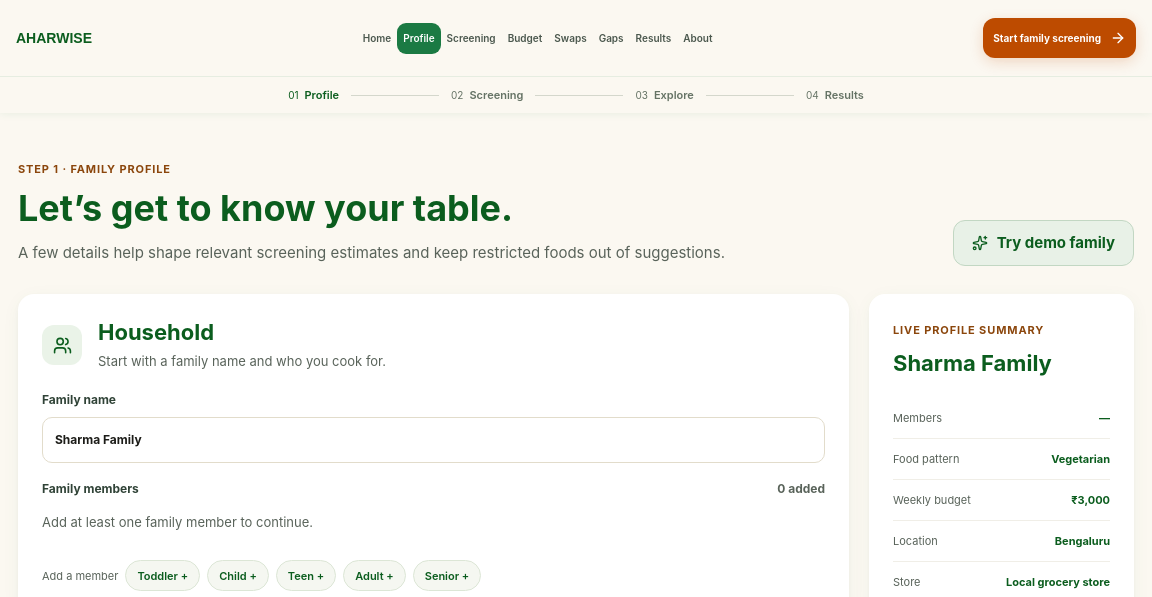
Scenario: AHARWISE end-to-end user flows › validates Profile inputs, fails closed on custom allergies, and handles Screening stale foodIds
Earlier steps of the test are not shown.
Click the button "Adult +" at (374, 576), box [343,560,406,592]
(page scrolled)
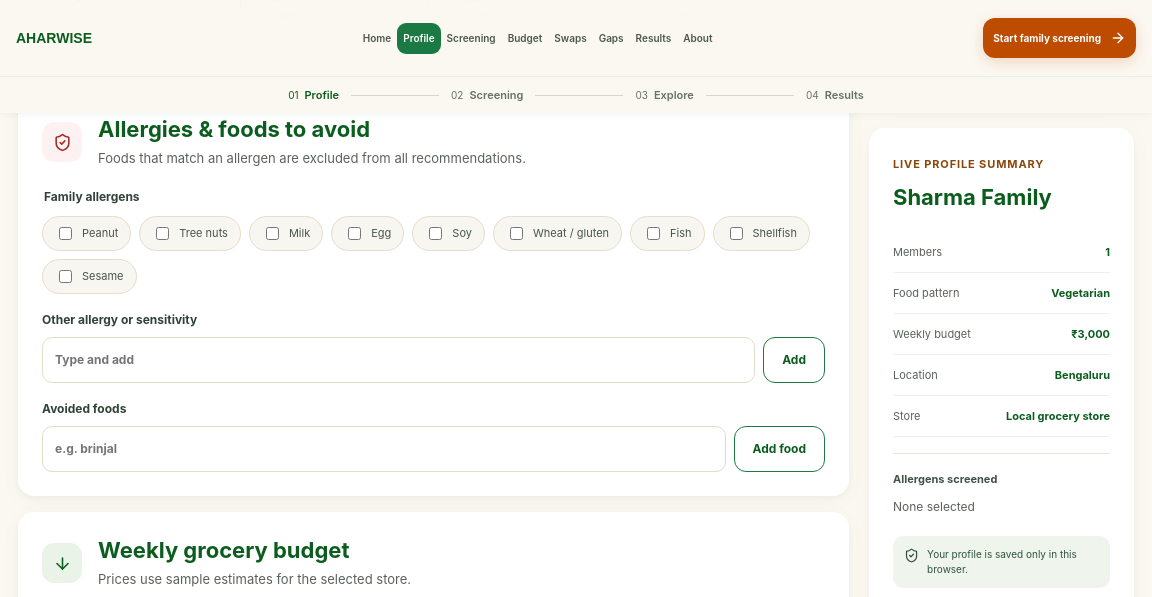
Type "Mustard" into the field with placeholder "Type and add" at (399, 360), box [42,337,755,383]
Click the button "Add" at (794, 360), box [763,337,825,383]
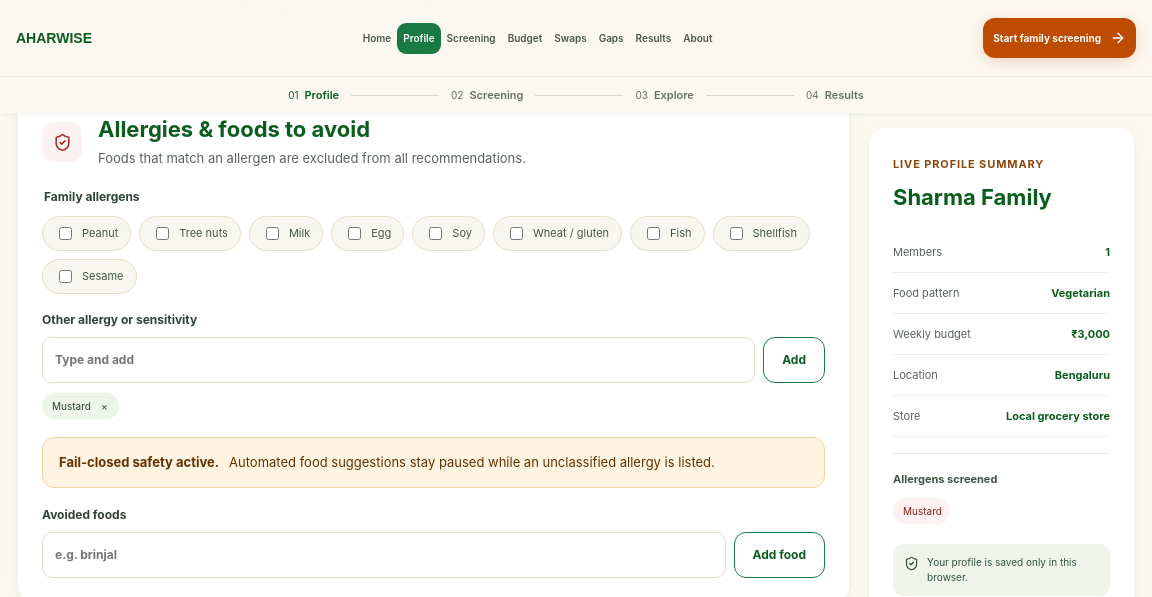
Result: the text "Fail-closed safety active." is shown at [59,452,219,473]
# Remove the custom allergy so Screening shows available foods
Click the button named "Remove Mustard" at (104, 406), box [98,399,110,414]
(page scrolled)
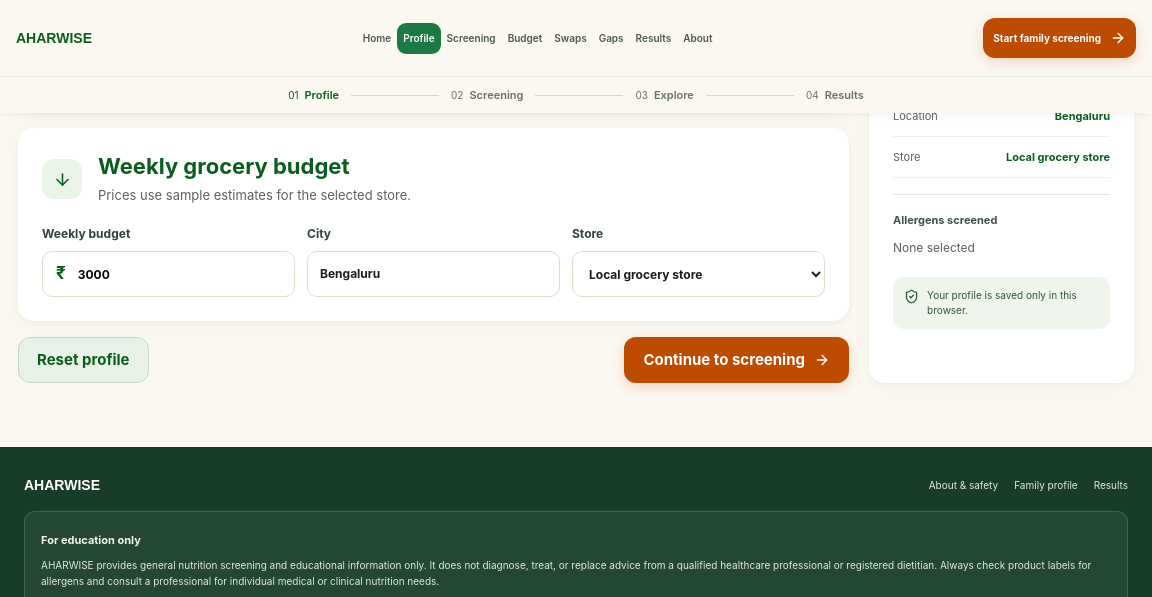
Click the button "Continue to screening" at (737, 360), box [624,337,849,383]
(page scrolled)
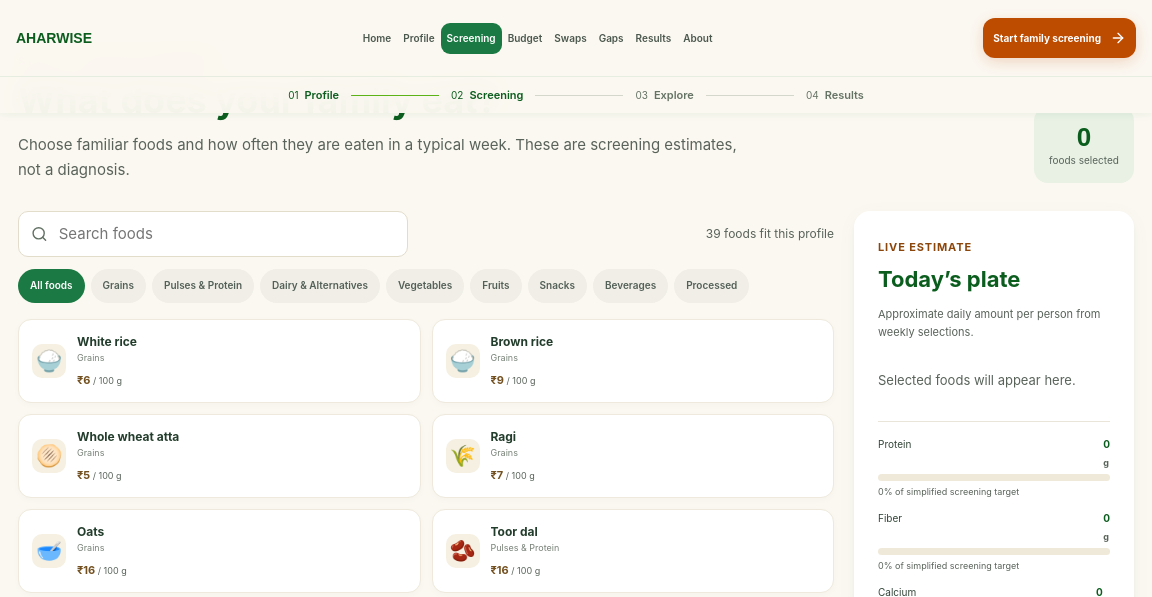
Result: the heading "What does your family eat?" is shown at [18,78,498,122]
# Select a food and generate results
Click the button with aria-label "Add White rice" at (49, 361), box [32,333,406,389]
(page scrolled)
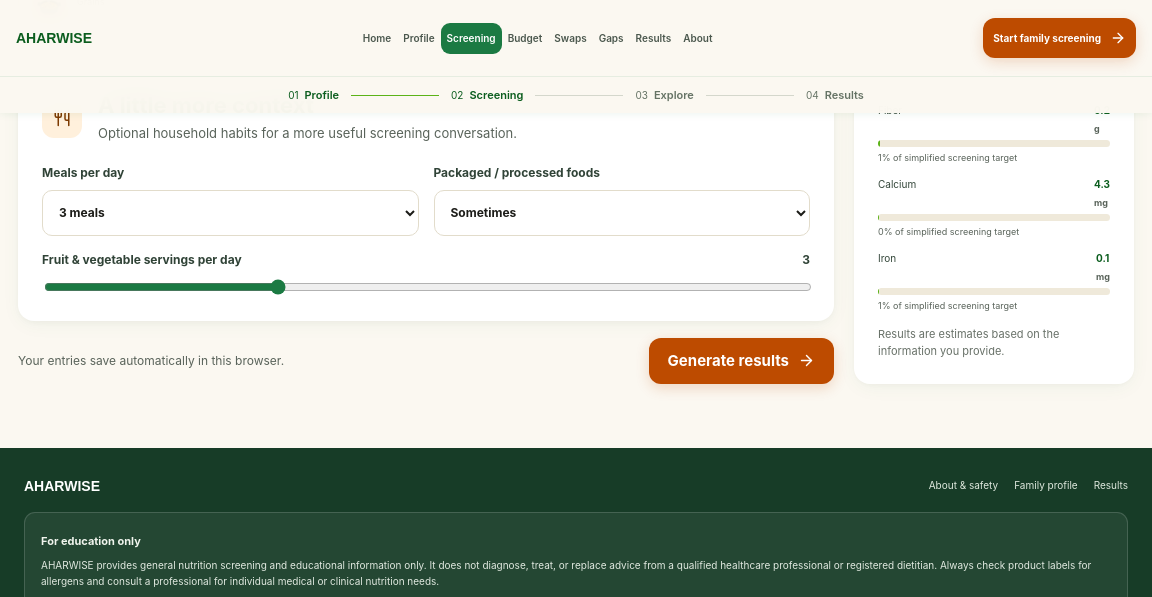
Click the button "Generate results" at (741, 361), box [649,338,834,384]
(page scrolled)
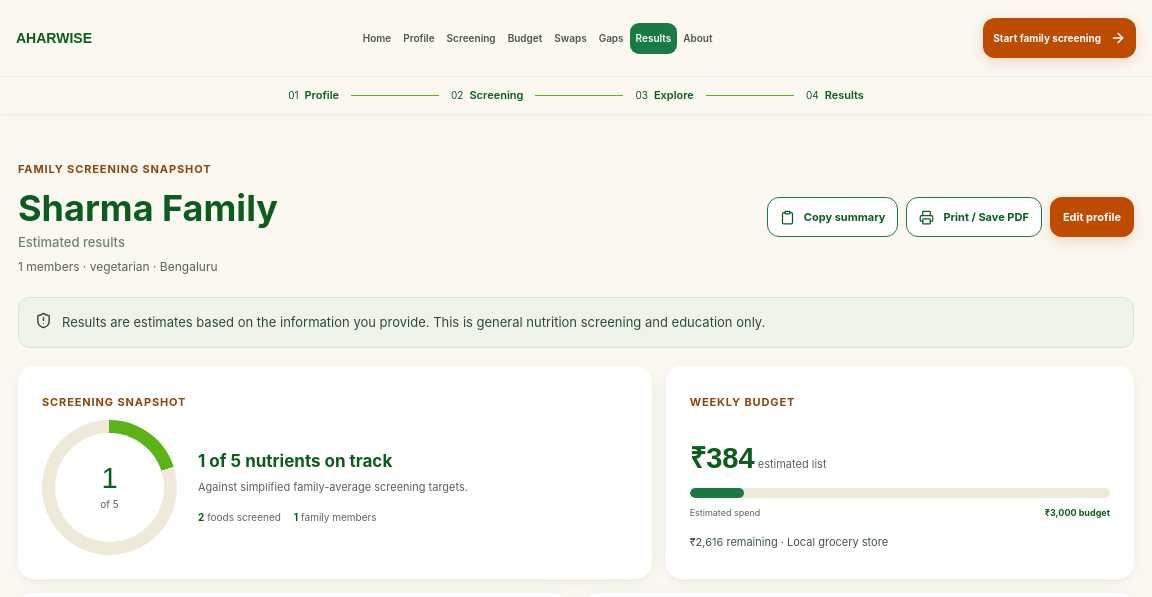
Result: the heading "Sharma Family Estimated results" is shown at [18,188,278,250]
